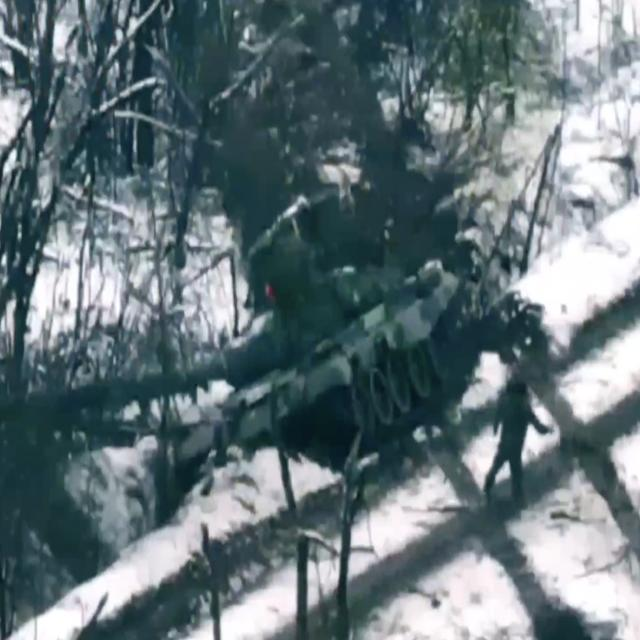infantry: (484, 368, 550, 508)
vehicle: (174, 238, 458, 497)
